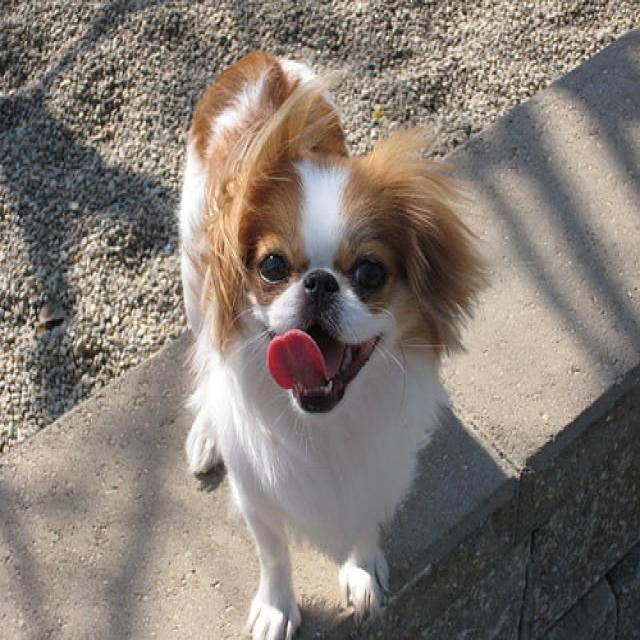dog-japanese_chin: (170, 44, 497, 637)
